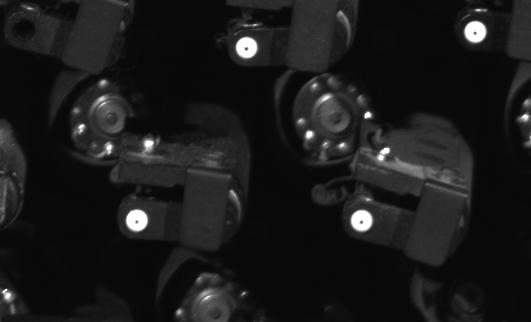fiber: (119, 205, 157, 240), (345, 206, 384, 240), (228, 31, 267, 62), (459, 19, 493, 47)
